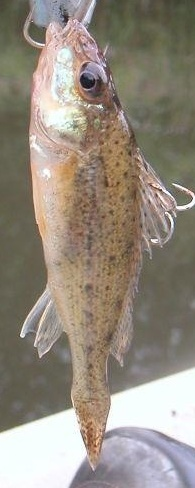Gymnocephalus cernuus: (20, 20, 175, 468)
